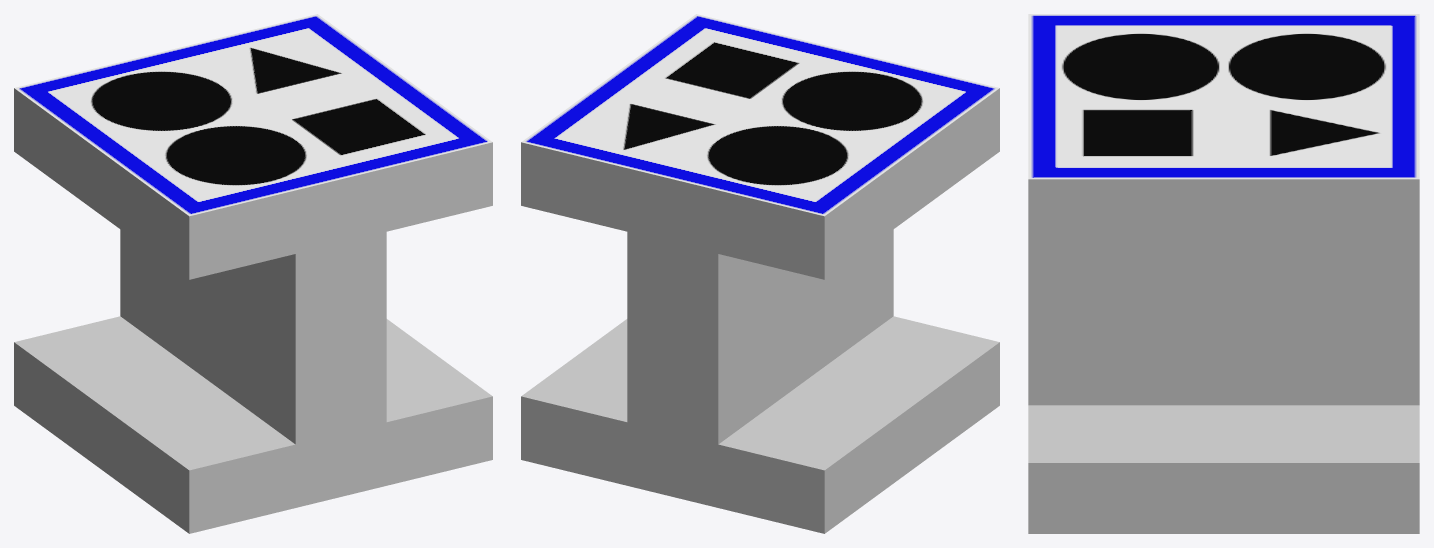
The model's file is Cubo2.dae.
3 renders of one model, left to right at view 1: azimuth 30°, elevation 25°; view 2: azimuth 150°, elevation 25°; view 3: azimuth 270°, elevation 25°, orthographic. The views are drawn at different scales.
Visible parts, largest first — view 1: cubo; view 2: cubo; view 3: cubo.
Part boxes in pixels (x1=…): cubo: x1=14, y1=14, x2=492, y2=533; cubo: x1=521, y1=14, x2=999, y2=533; cubo: x1=1028, y1=14, x2=1419, y2=533.
Bounding box in the file's own units: 0.1 × 0.1 × 0.1.
Materials: 2 (1 with a texture image).
